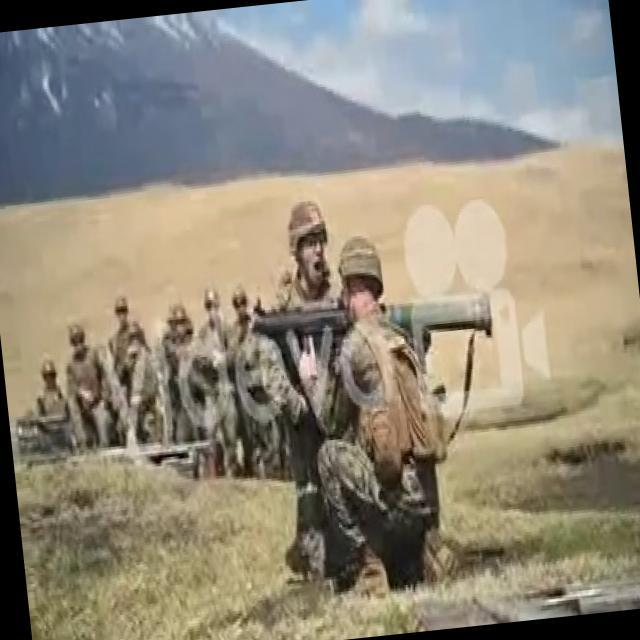rocket: (252, 281, 492, 359)
